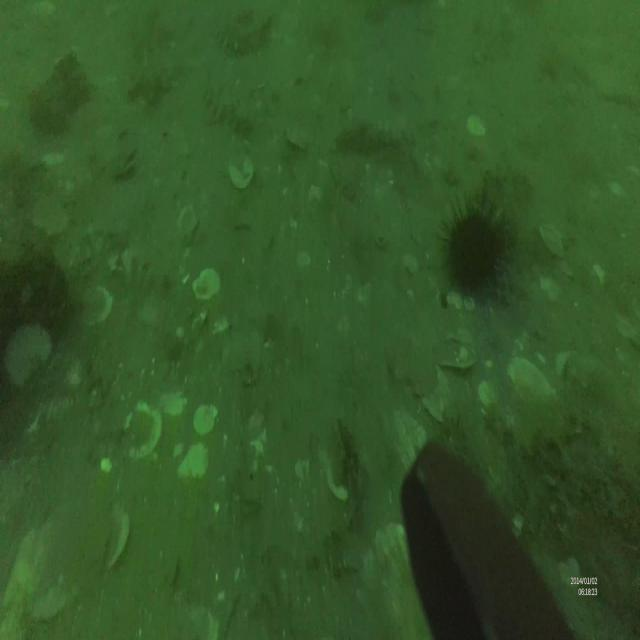echinus: (439, 189, 513, 303)
holothurian: (204, 82, 257, 140), (215, 15, 272, 57)
